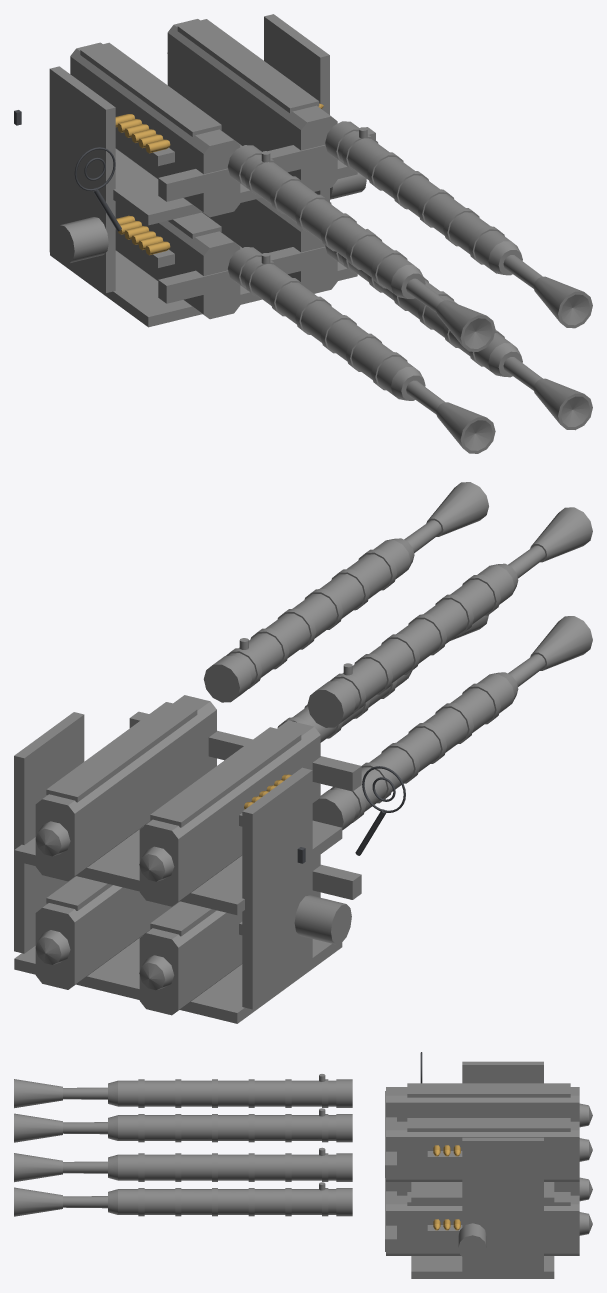
Rendered from pompom_quad.obj.
3 views of the same model, one above another, from view 1: azimuth 30°, elevation 25°; view 2: azimuth 150°, elevation 25°; view 3: azimuth 270°, elevation 25° (orthographic). The views are drawn at different scales.
Visible parts, largest first — view 1: turret_0, barrel_0, turret_1, turret_2; view 2: turret_0, barrel_0, turret_2; view 3: turret_0, barrel_0, turret_1.
Boxes of the visible parts, <box> form: turret_0: <box>49,14,375,327</box>; barrel_0: <box>228,121,592,453</box>; turret_1: <box>115,103,323,255</box>; turret_2: <box>14,110,121,231</box>; turret_0: <box>14,695,361,1023</box>; barrel_0: <box>203,482,592,830</box>; turret_2: <box>297,766,405,863</box>; turret_0: <box>385,1061,592,1278</box>; barrel_0: <box>14,1074,352,1216</box>; turret_1: <box>433,1145,460,1230</box>.
Bounding box in the file's own units: 1.3 × 0.8081 × 2.84.
